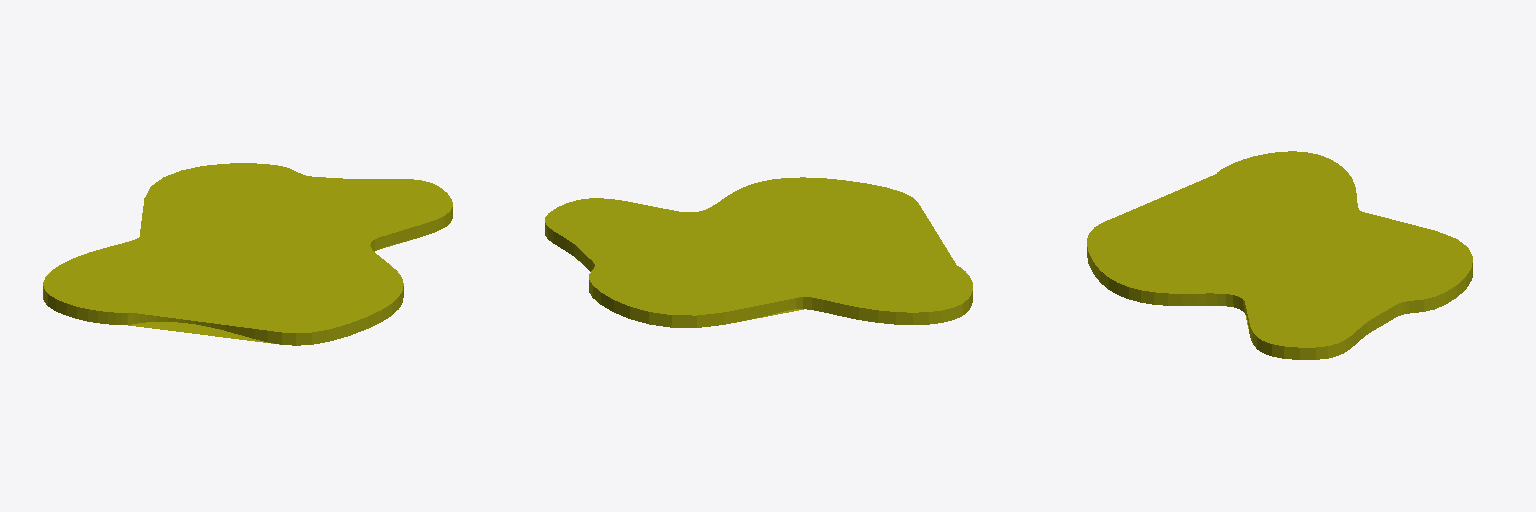
Rendered from splatter.obj.
3 views of the same model, side by side, from view 1: azimuth 30°, elevation 25°; view 2: azimuth 150°, elevation 25°; view 3: azimuth 270°, elevation 25° (orthographic).
Parts seen in each view (by area): view 1: Cap_2, Extrude, Cap_1; view 2: Cap_2, Extrude; view 3: Cap_2, Extrude.
Part boxes in pixels (x1,y1,x2,y2): Cap_2: (43, 163, 452, 332); Extrude: (43, 207, 452, 345); Cap_1: (128, 240, 409, 344); Cap_2: (545, 177, 972, 315); Extrude: (545, 223, 972, 327); Cap_2: (1087, 151, 1472, 347); Extrude: (1087, 247, 1472, 359).
Bounding box in the file's own units: 677 × 30.17 × 563.